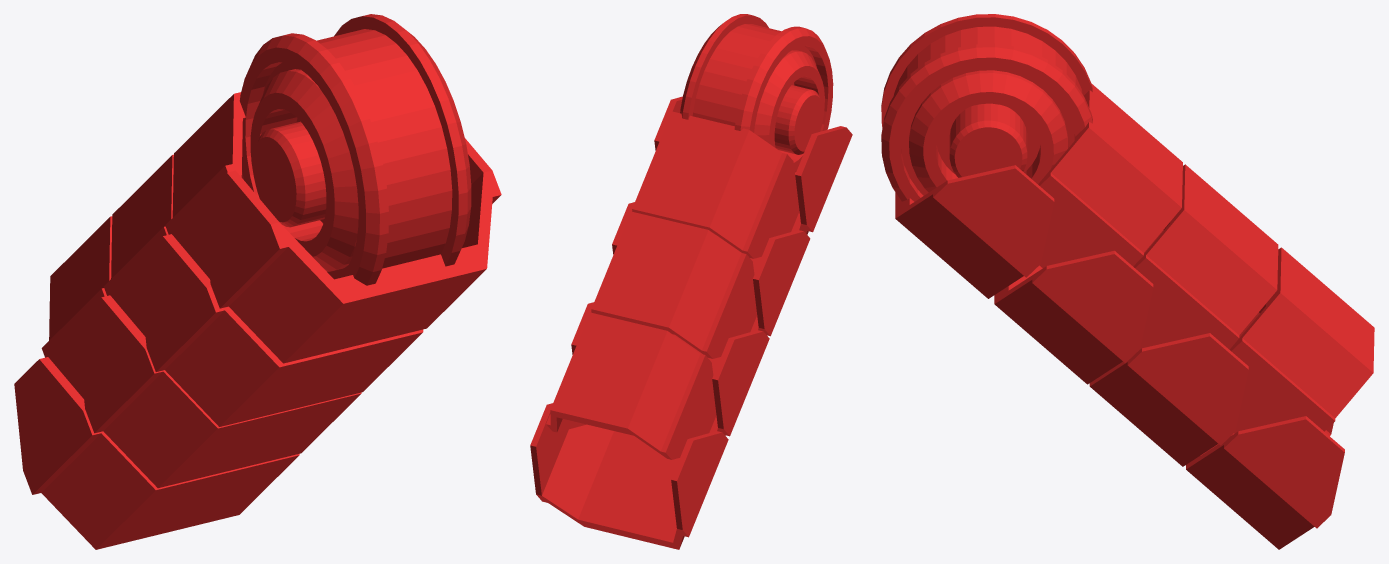
Rendered from tibia.obj.
3 renders of one model, left to right at view 1: azimuth 30°, elevation 25°; view 2: azimuth 150°, elevation 25°; view 3: azimuth 270°, elevation 25°, orthographic. The views are drawn at different scales.
Visible parts, largest first — view 1: gun_droneJoint7Joint1JointJoint11Null_Object5Cylinder8; view 2: gun_droneJoint7Joint1JointJoint11Null_Object5Cylinder8; view 3: gun_droneJoint7Joint1JointJoint11Null_Object5Cylinder8.
Part boxes in pixels (x1=…): gun_droneJoint7Joint1JointJoint11Null_Object5Cylinder8: x1=14, y1=14, x2=501, y2=549; gun_droneJoint7Joint1JointJoint11Null_Object5Cylinder8: x1=530, y1=14, x2=852, y2=549; gun_droneJoint7Joint1JointJoint11Null_Object5Cylinder8: x1=881, y1=14, x2=1374, y2=549.
Bounding box in the file's own units: 0.4948 × 1.35 × 1.23.
